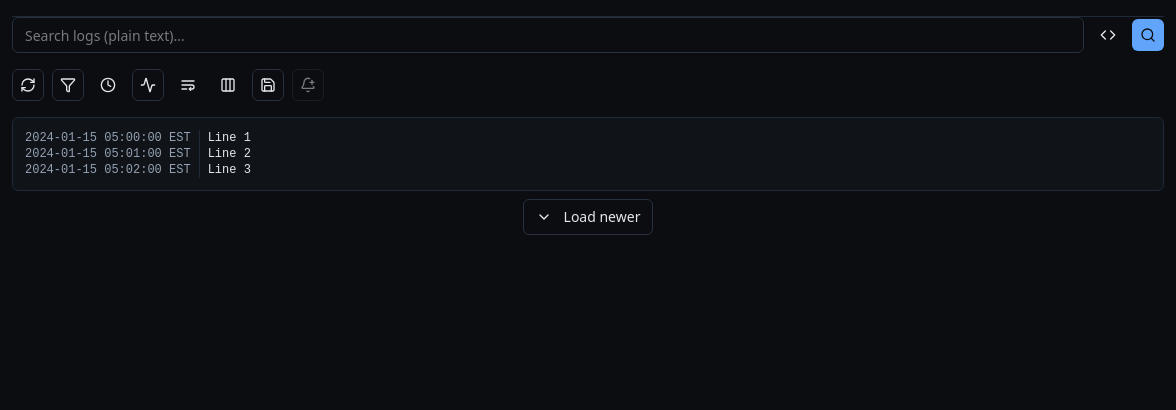
LogsExplorerBody (surrounding mode) › load-older accumulates lines
// Enter mode
Step 1. Click the button with test id "log-row" showing "2024-01-15 05:00:00 EST Line 1" → (138, 138), box [25, 130, 251, 146]
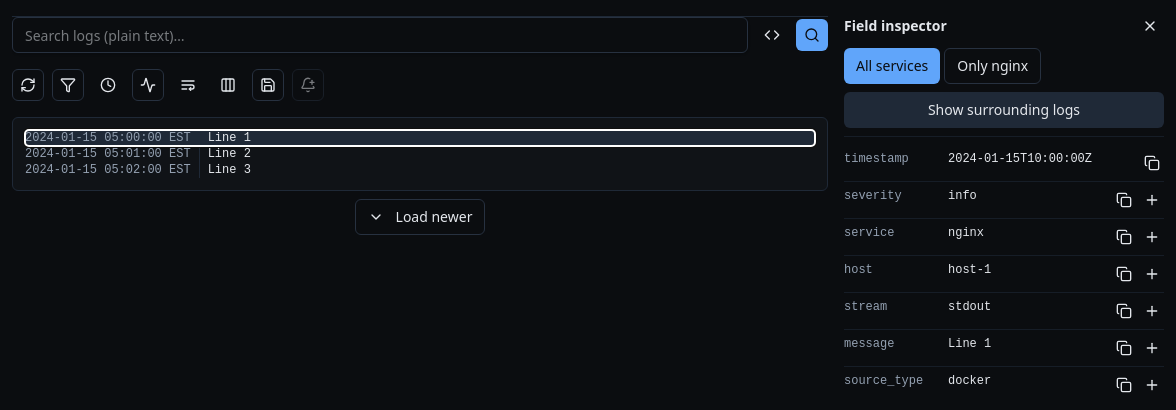
Step 2. Click the button with test id "show-surrounding-logs" → (1004, 110), box [844, 92, 1164, 128]
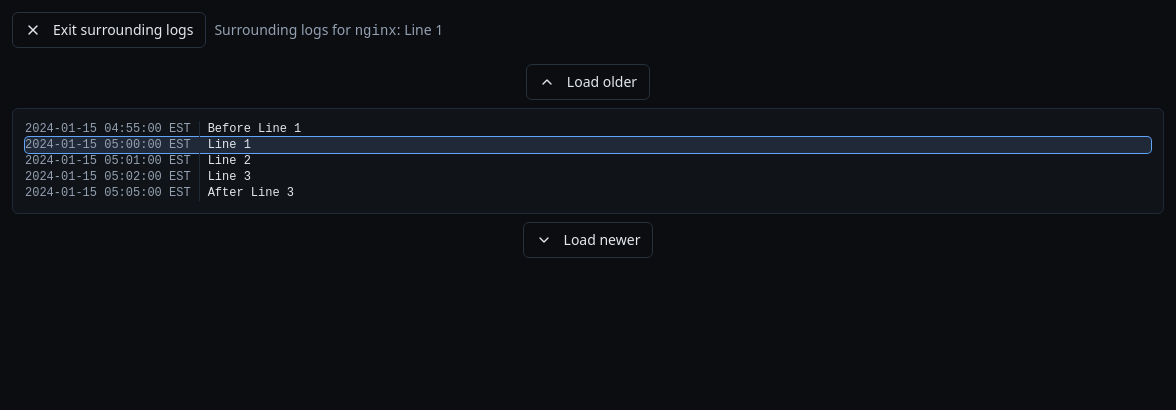
Check: the text "Before Line 1" is shown, box [208, 122, 301, 136]
// Load older
Step 3. Click the button with test id "load-older" → (588, 82), box [526, 64, 650, 100]
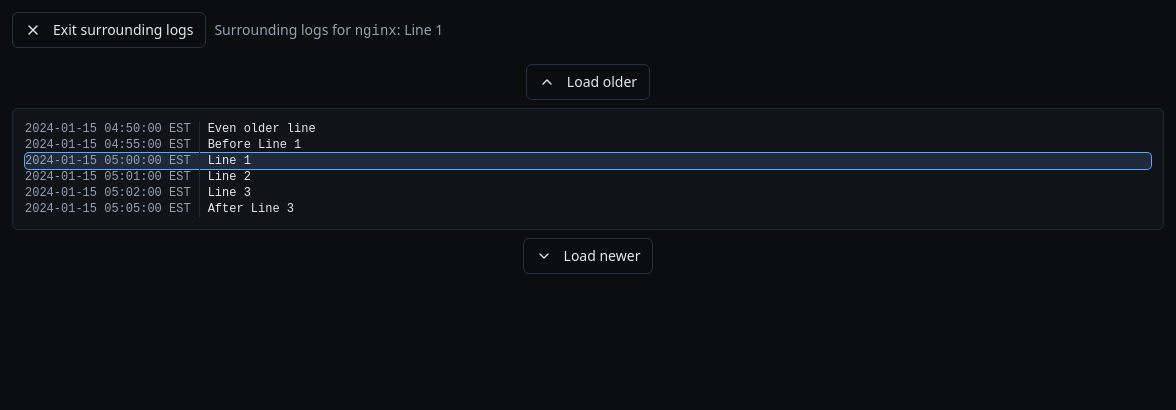
Check: the text "Even older line" is shown, box [208, 122, 316, 136]
